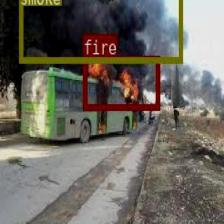fire: (82, 55, 159, 109)
smoke: (19, 0, 182, 61)
